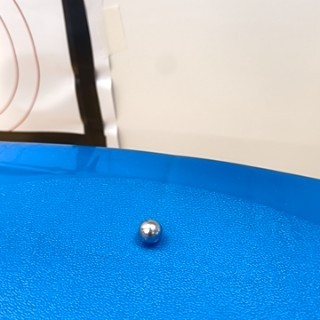ironball: (131, 215, 167, 253)
